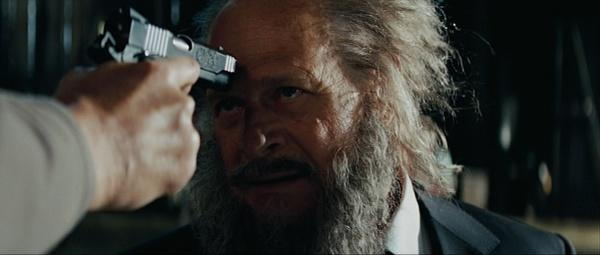Gun: (90, 4, 237, 94)
